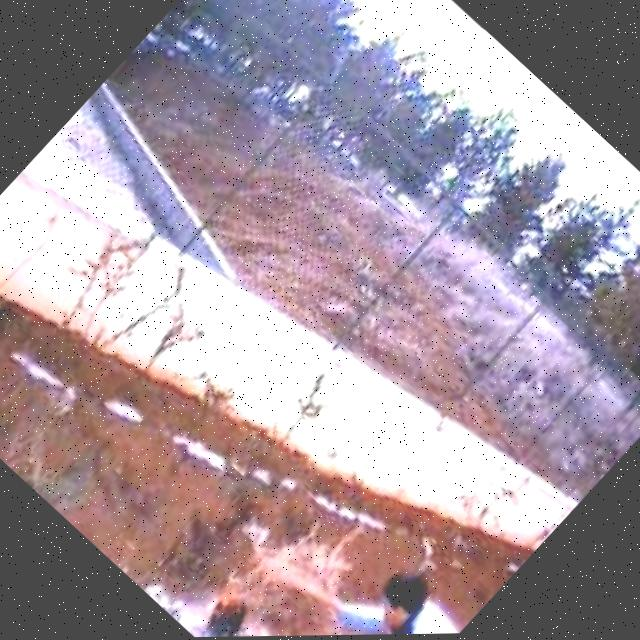Fire: (185, 564, 271, 638)
